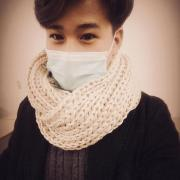OK: (47, 19, 115, 93)
